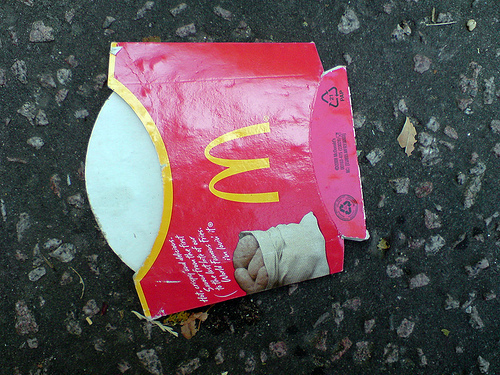litter: (82, 40, 368, 322)
